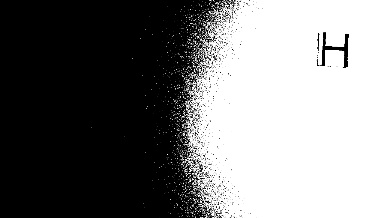H: (317, 30, 352, 66)
